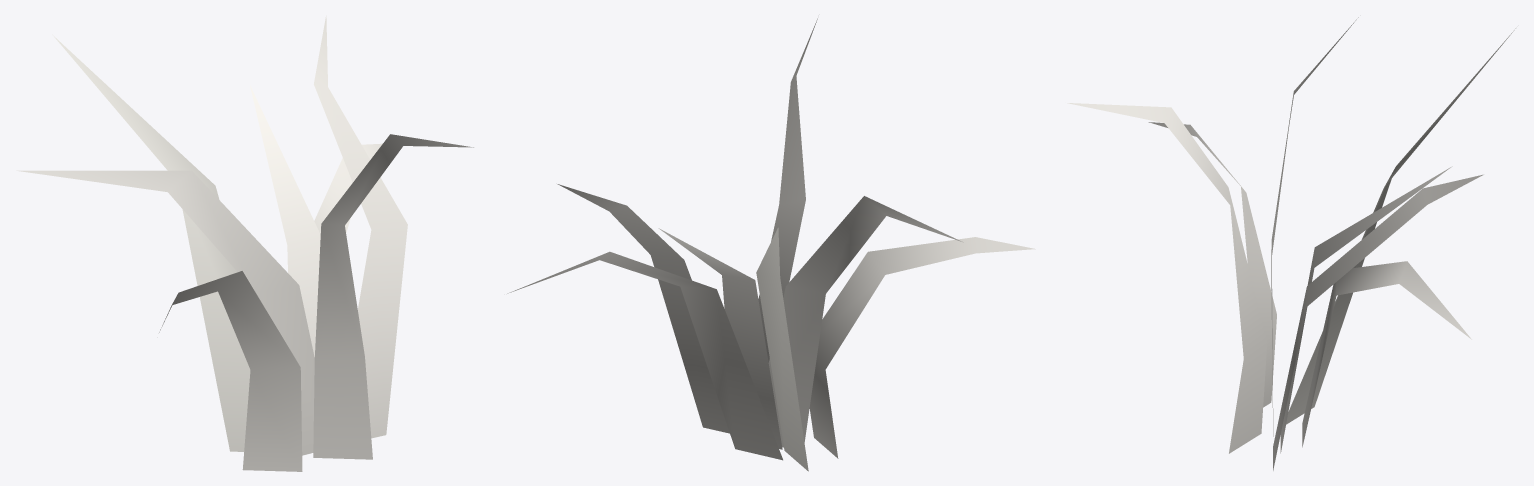
Rendered from Model_Frost_Plants4.fbx.
3 renders of one model, left to right at view 1: azimuth 30°, elevation 25°; view 2: azimuth 150°, elevation 25°; view 3: azimuth 270°, elevation 25°, orthographic. The views are drawn at different scales.
Parts seen in each view (by area): view 1: cao4; view 2: cao4; view 3: cao4.
Part boxes in pixels (x1=…): cao4: x1=16, y1=15, x2=473, y2=471; cao4: x1=507, y1=18, x2=1035, y2=471; cao4: x1=1067, y1=17, x2=1515, y2=470.
Bounding box in the file's own units: 54.84 × 44.34 × 50.6.
Materials: 1 (1 with a texture image).
